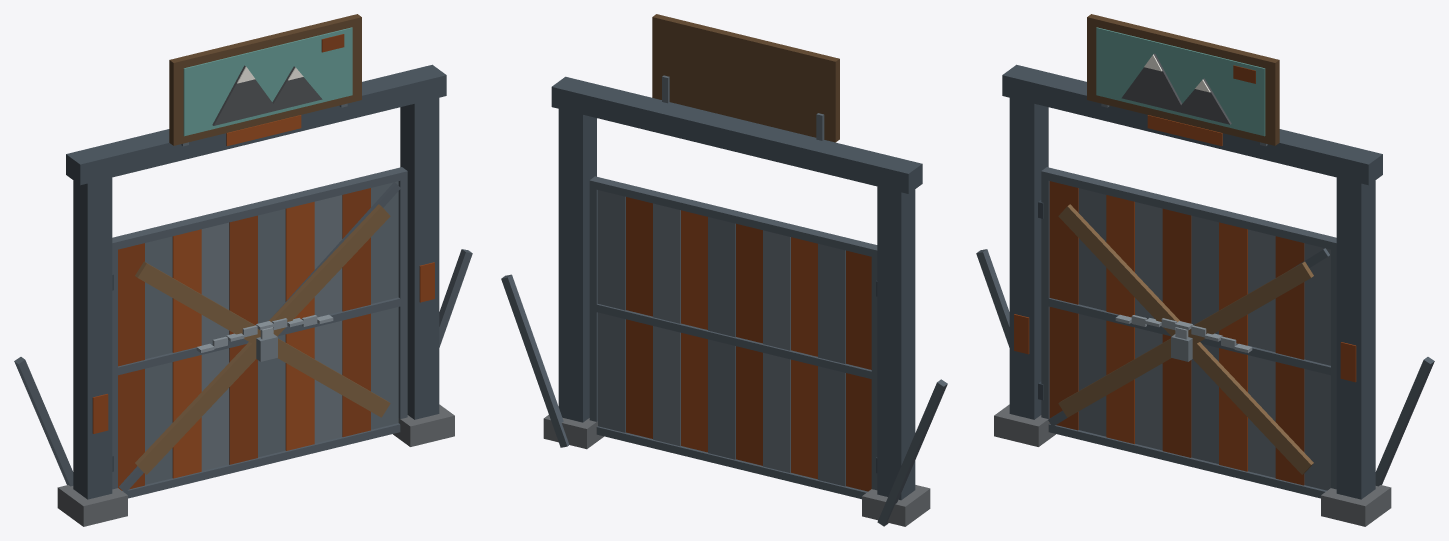
File: Lobby_Door_Mountains.obj
The picture shows the model from 3 angles, left to right: view 1: azimuth 30°, elevation 25°; view 2: azimuth 150°, elevation 25°; view 3: azimuth 330°, elevation 25°; orthographic projection. The views are drawn at different scales.
Visible parts, largest first — view 1: GateMountains__Door_GateMountains__Door, GateMountains__Frame_GateMountains__Frame, GateMountains__Sign_GateMountains__Sign, GateMountains__Lock_GateMountains__Lock; view 2: GateMountains__Door_GateMountains__Door, GateMountains__Frame_GateMountains__Frame, GateMountains__Sign_GateMountains__Sign; view 3: GateMountains__Door_GateMountains__Door, GateMountains__Frame_GateMountains__Frame, GateMountains__Sign_GateMountains__Sign, GateMountains__Lock_GateMountains__Lock.
Boxes of the visible parts, x1=… form: GateMountains__Door_GateMountains__Door: x1=112, y1=167, x2=407, y2=498; GateMountains__Frame_GateMountains__Frame: x1=14, y1=64, x2=472, y2=526; GateMountains__Sign_GateMountains__Sign: x1=169, y1=14, x2=361, y2=145; GateMountains__Lock_GateMountains__Lock: x1=135, y1=204, x2=390, y2=474; GateMountains__Door_GateMountains__Door: x1=589, y1=176, x2=877, y2=499; GateMountains__Frame_GateMountains__Frame: x1=501, y1=75, x2=947, y2=526; GateMountains__Sign_GateMountains__Sign: x1=652, y1=14, x2=839, y2=142; GateMountains__Door_GateMountains__Door: x1=1038, y1=167, x2=1336, y2=498; GateMountains__Frame_GateMountains__Frame: x1=976, y1=64, x2=1434, y2=526; GateMountains__Sign_GateMountains__Sign: x1=1087, y1=14, x2=1279, y2=145; GateMountains__Lock_GateMountains__Lock: x1=1058, y1=204, x2=1313, y2=474.
Size of the model in its own units: 18.35 by 17.12 by 2.1.
